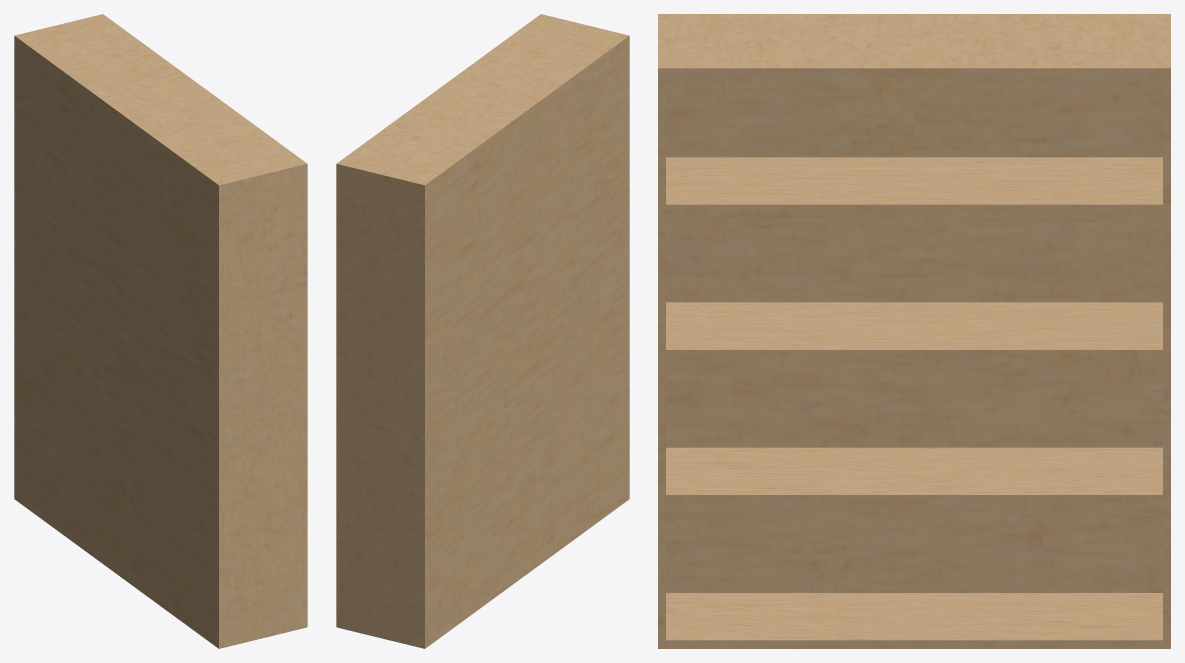
File: storage_shelf.glb
The picture shows the model from 3 angles, left to right: view 1: azimuth 30°, elevation 25°; view 2: azimuth 150°, elevation 25°; view 3: azimuth 270°, elevation 25°; orthographic projection. The views are drawn at different scales.
Parts seen in each view (by area): view 1: storage_shelf; view 2: storage_shelf; view 3: storage_shelf.
Boxes of the visible parts, x1=… form: storage_shelf: x1=14, y1=14, x2=307, y2=648; storage_shelf: x1=336, y1=14, x2=629, y2=648; storage_shelf: x1=658, y1=14, x2=1170, y2=648.
Size of the model in its own units: 0.4 by 2 by 1.6.
Materials: 1 (1 with a texture image).
